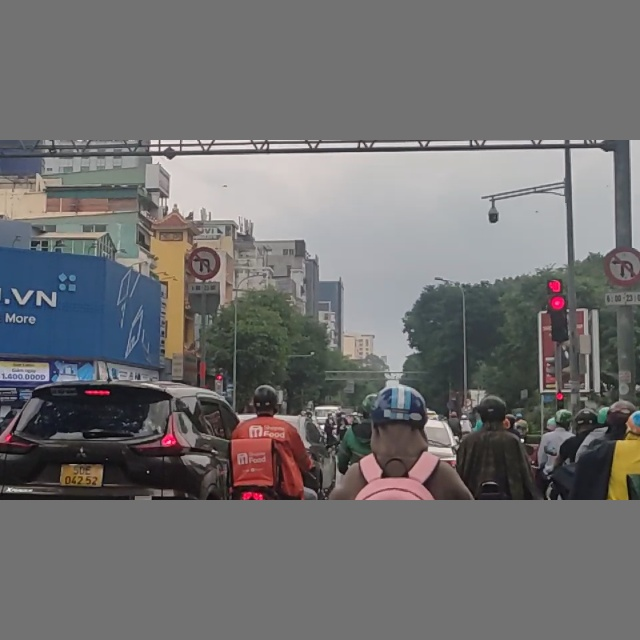P.124c: (606, 247, 640, 284), (189, 248, 219, 280)
